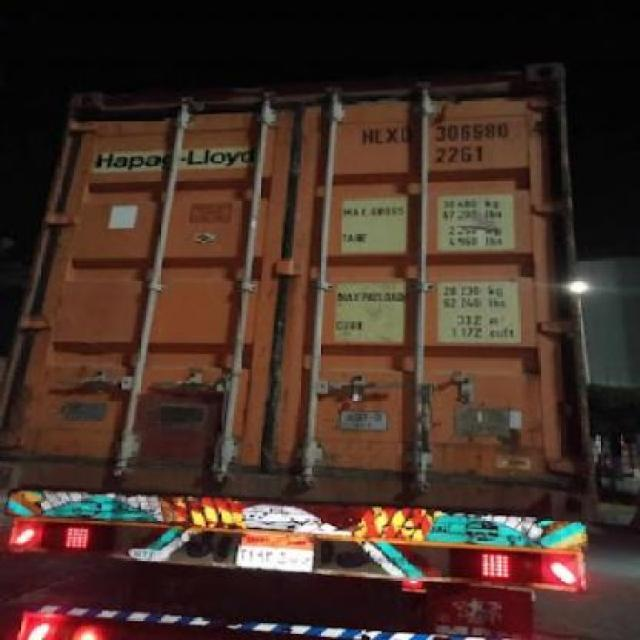ISO: (440, 144, 488, 164)
container_number: (359, 116, 548, 142)
